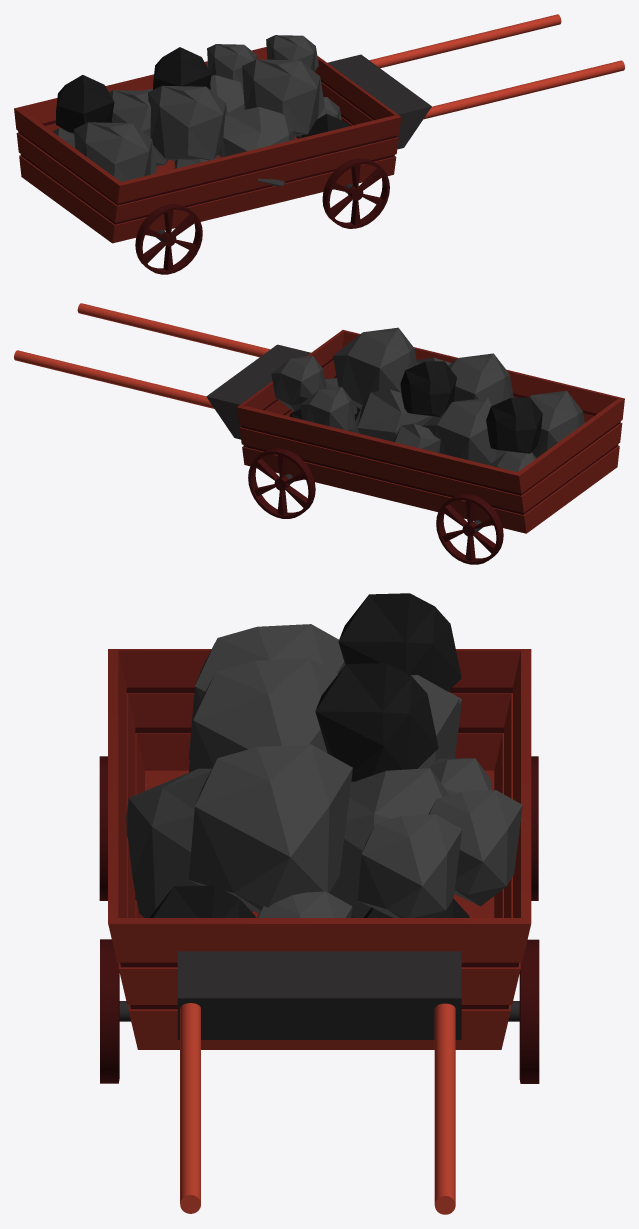
File: Wagen_Steine.FBX
3 views of the same model, one above another, from view 1: azimuth 30°, elevation 25°; view 2: azimuth 150°, elevation 25°; view 3: azimuth 270°, elevation 25° (orthographic). The views are drawn at different scales.
Parts seen in each view (by area): view 1: WagenBody, Stein012, Stein011, Handle, Stein2, Stein1, WheelFrontRight, WheelBackRight, Stein017, Stein016, Stein008, Stein015 (+3 smaller); view 2: WagenBody, Stein011, Handle, Stein008, Stein017, Stein016, WheelFrontLeft, WheelBackLeft, Stein012, Stein007, Stein2, Stein014 (+3 smaller); view 3: WagenBody, Stein011, Stein012, Stein016, Stein014, Handle, Stein017, Stein1, Stein015, Stein007, Stein2, WheelFrontLeft (+7 smaller).
Part boxes in pixels (x1,y1,x2,y2): WagenBody: (14, 47, 431, 243); Stein012: (148, 85, 227, 161); Stein011: (242, 59, 324, 136); Handle: (369, 14, 624, 119); Stein2: (74, 122, 156, 181); Stein1: (220, 107, 294, 185); WheelFrontRight: (322, 158, 389, 228); WheelBackRight: (135, 204, 202, 274); Stein017: (56, 75, 114, 132); Stein016: (153, 47, 211, 89); Stein008: (109, 90, 168, 166); Stein015: (207, 44, 257, 85); WagenBody: (206, 330, 624, 533); Stein011: (333, 327, 416, 409); Handle: (14, 303, 269, 408); Stein008: (422, 397, 507, 465); Stein017: (486, 397, 542, 453); Stein016: (400, 361, 456, 416); WheelFrontLeft: (248, 448, 315, 518); WheelBackLeft: (436, 494, 503, 564); Stein012: (448, 353, 513, 404); Stein007: (350, 389, 433, 441); Stein2: (529, 390, 584, 458); Stein014: (271, 355, 325, 411); WagenBody: (108, 649, 531, 1049); Stein011: (188, 744, 352, 913); Stein012: (189, 658, 337, 772); Stein016: (315, 663, 438, 781); Stein014: (357, 814, 462, 917); Handle: (180, 1003, 455, 1214); Stein017: (338, 593, 461, 691); Stein1: (126, 768, 252, 917); Stein015: (428, 790, 522, 906); Stein007: (329, 768, 449, 917); Stein2: (188, 624, 345, 759); WheelFrontLeft: (519, 939, 539, 1083).
Size of the model in its own units: 174 by 49.04 by 63.21.
